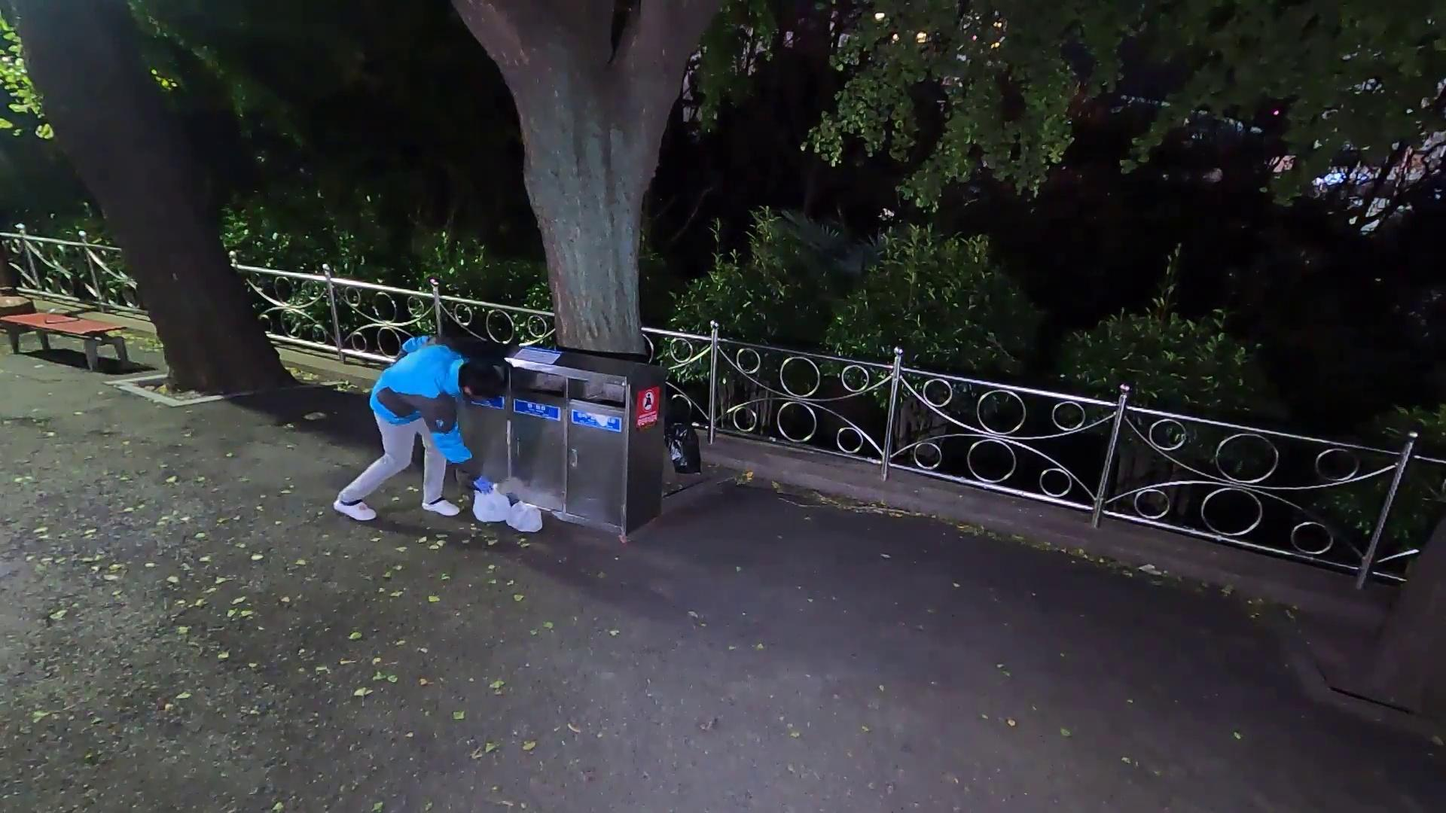person: (332, 334, 504, 530)
trash: (668, 411, 706, 478), (503, 498, 551, 540), (474, 483, 514, 528)
